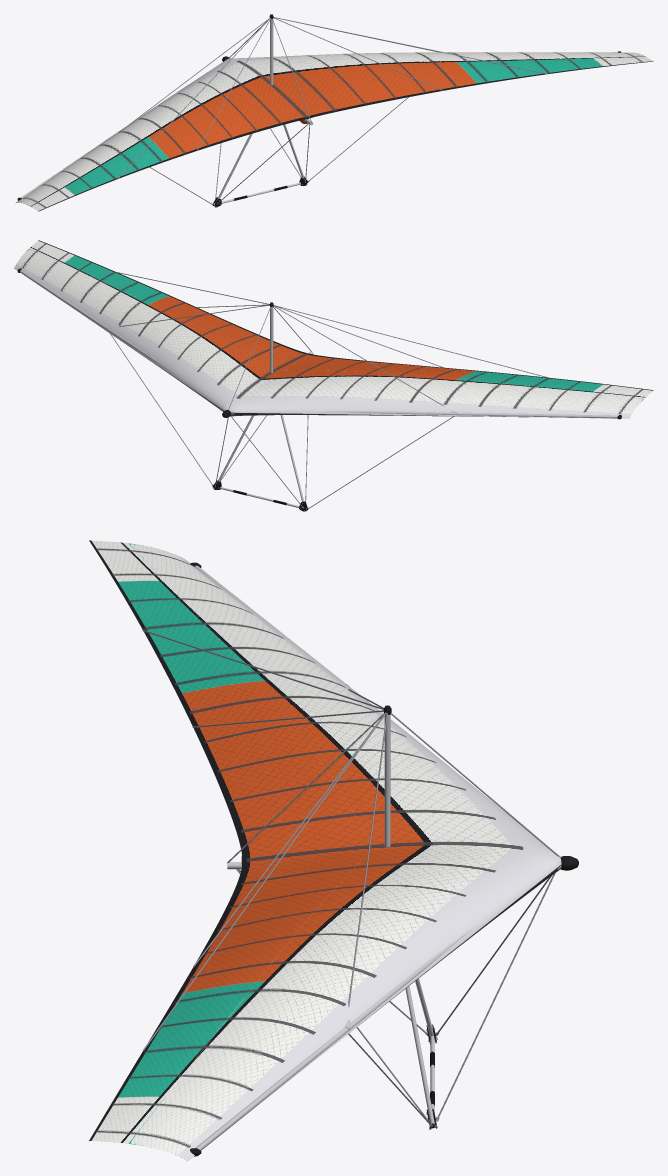
Rendered from glider_ww_super_sport.glb.
The picture shows the model from 3 angles, top to bottom: view 1: azimuth 30°, elevation 25°; view 2: azimuth 150°, elevation 25°; view 3: azimuth 270°, elevation 25°; orthographic projection. The views are drawn at different scales.
Parts seen in each view (by area): view 1: Sail, Frame, ControlFrame; view 2: Sail, Frame, ControlFrame; view 3: Sail, Frame, ControlFrame.
Part boxes in pixels (<box>): Sail: <box>15,52,653,211</box>; Frame: <box>17,14,621,200</box>; ControlFrame: <box>150,97,408,207</box>; Sail: <box>14,240,653,418</box>; Frame: <box>17,268,621,419</box>; ControlFrame: <box>110,334,454,511</box>; Sail: <box>89,540,561,1161</box>; Frame: <box>142,562,578,1156</box>; ControlFrame: <box>236,869,555,1129</box>.
Bounding box in the file's own units: 9.96 × 2.94 × 3.44.
Materials: 8 (1 with a texture image).
